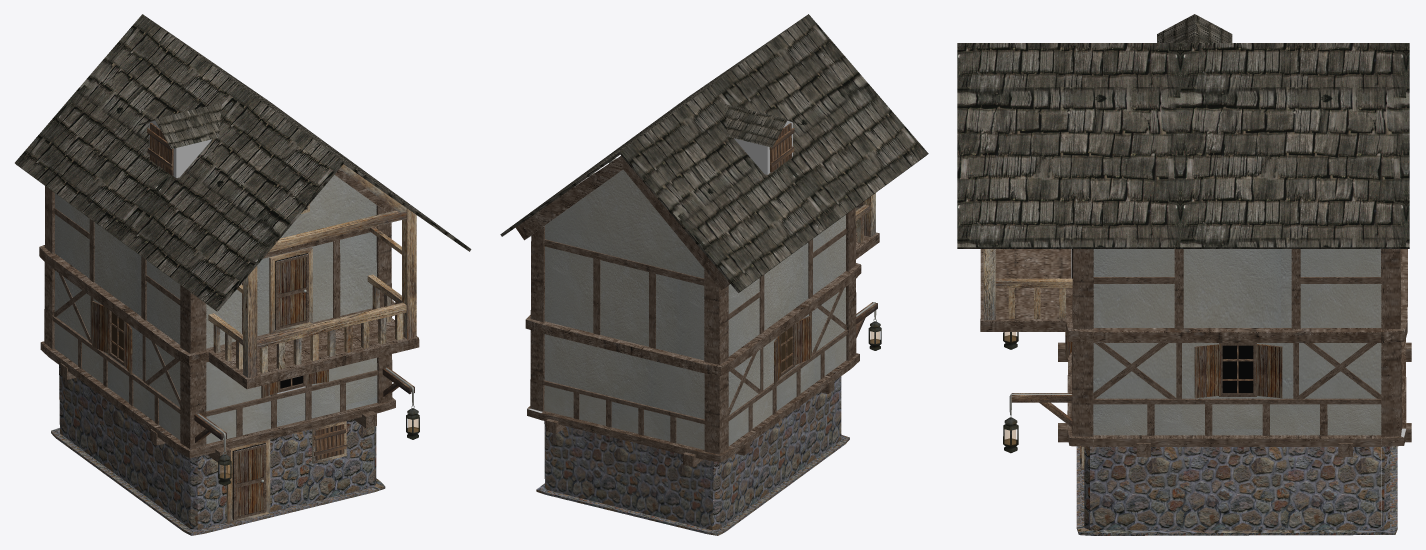
The model's file is house.fbx.
The picture shows the model from 3 angles, left to right: view 1: azimuth 30°, elevation 25°; view 2: azimuth 150°, elevation 25°; view 3: azimuth 270°, elevation 25°; orthographic projection. The views are drawn at different scales.
Visible parts, largest first — view 1: house; view 2: house; view 3: house.
Part boxes in pixels (x1,y1,x2,y2): house: (15,14,471,535); house: (500,14,928,535); house: (957,14,1411,535).
Size of the model in its own units: 3.43 by 5 by 4.69.
